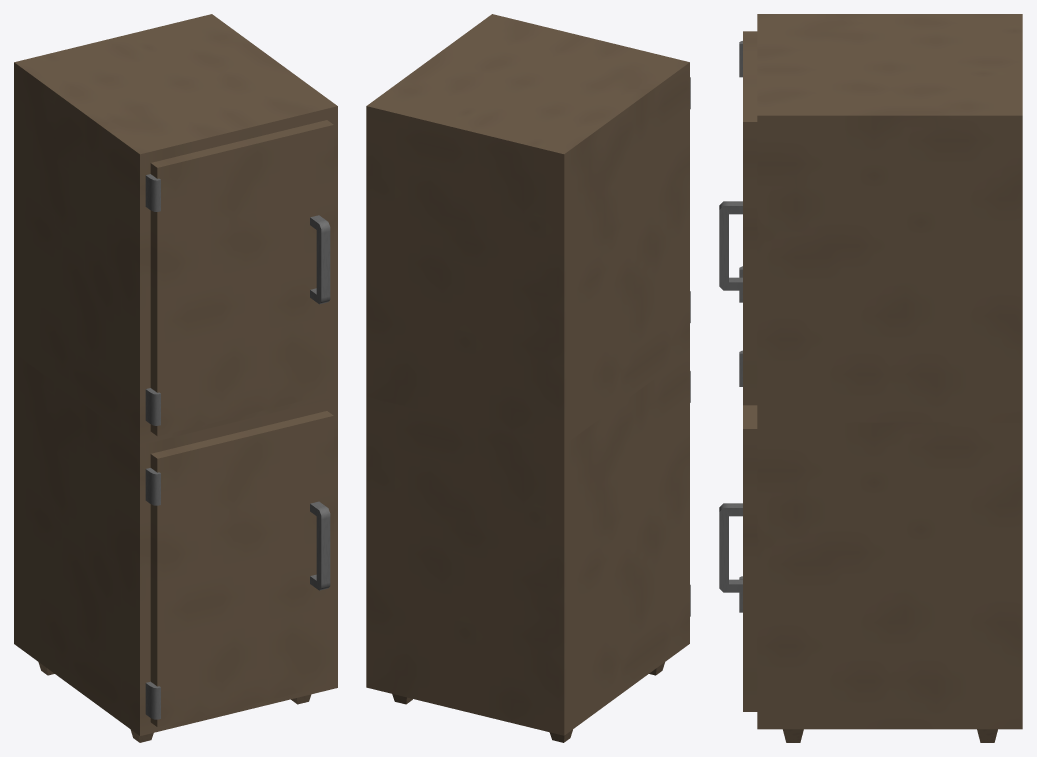
File: ClosetMedium.fbx
3 renders of one model, left to right at view 1: azimuth 30°, elevation 25°; view 2: azimuth 150°, elevation 25°; view 3: azimuth 270°, elevation 25°, orthographic. The views are drawn at different scales.
Parts seen in each view (by area): view 1: Cube.073; view 2: Cube.073; view 3: Cube.073.
Boxes of the visible parts, bbox=[...] form: Cube.073: bbox=[14, 14, 337, 742]; Cube.073: bbox=[366, 14, 690, 742]; Cube.073: bbox=[719, 14, 1022, 742].
Size of the model in its own units: 78.86 by 229 by 99.27.
